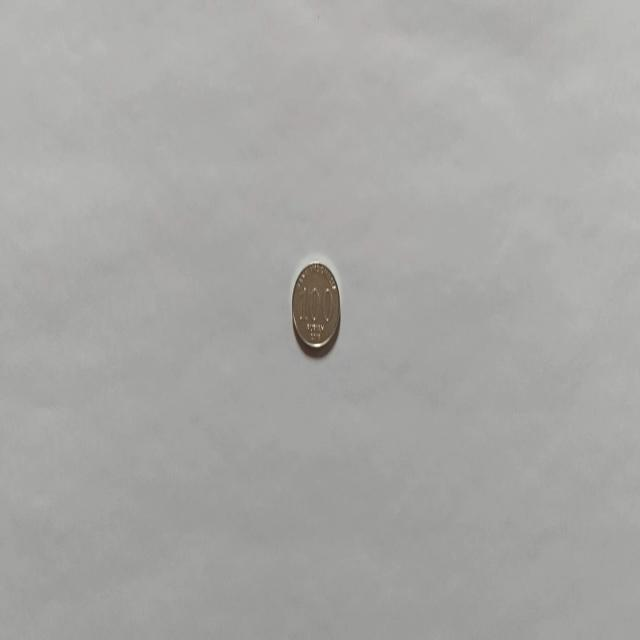seratus rupiah: (290, 260, 340, 352)
